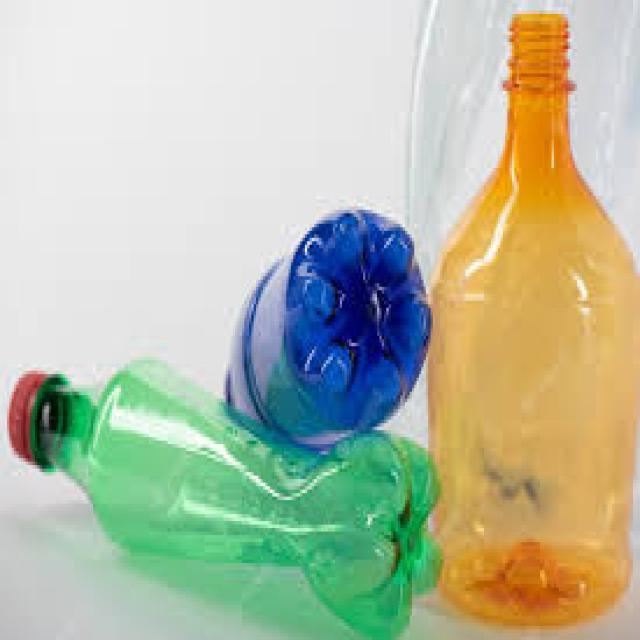Plastic: (426, 25, 640, 586), (13, 365, 431, 639)
